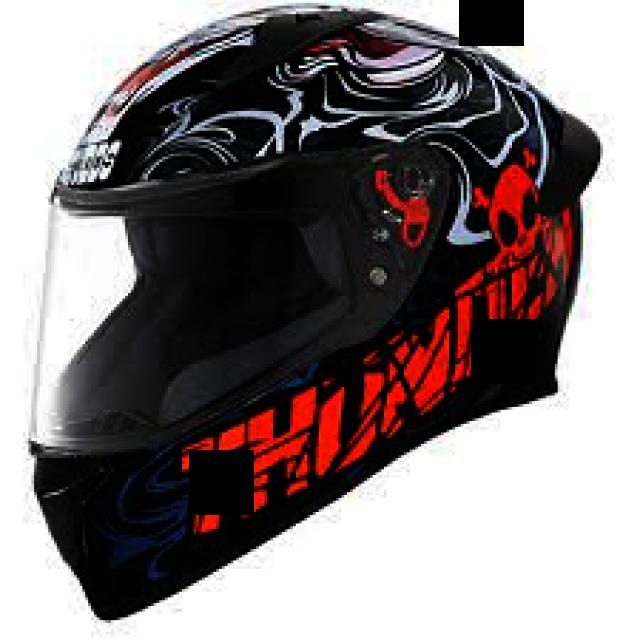Helmet: (9, 3, 600, 616)
